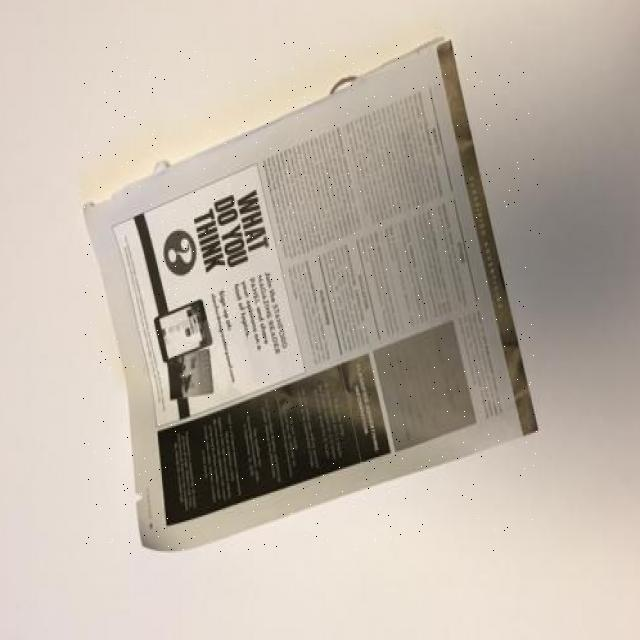paper: (82, 40, 540, 554)
